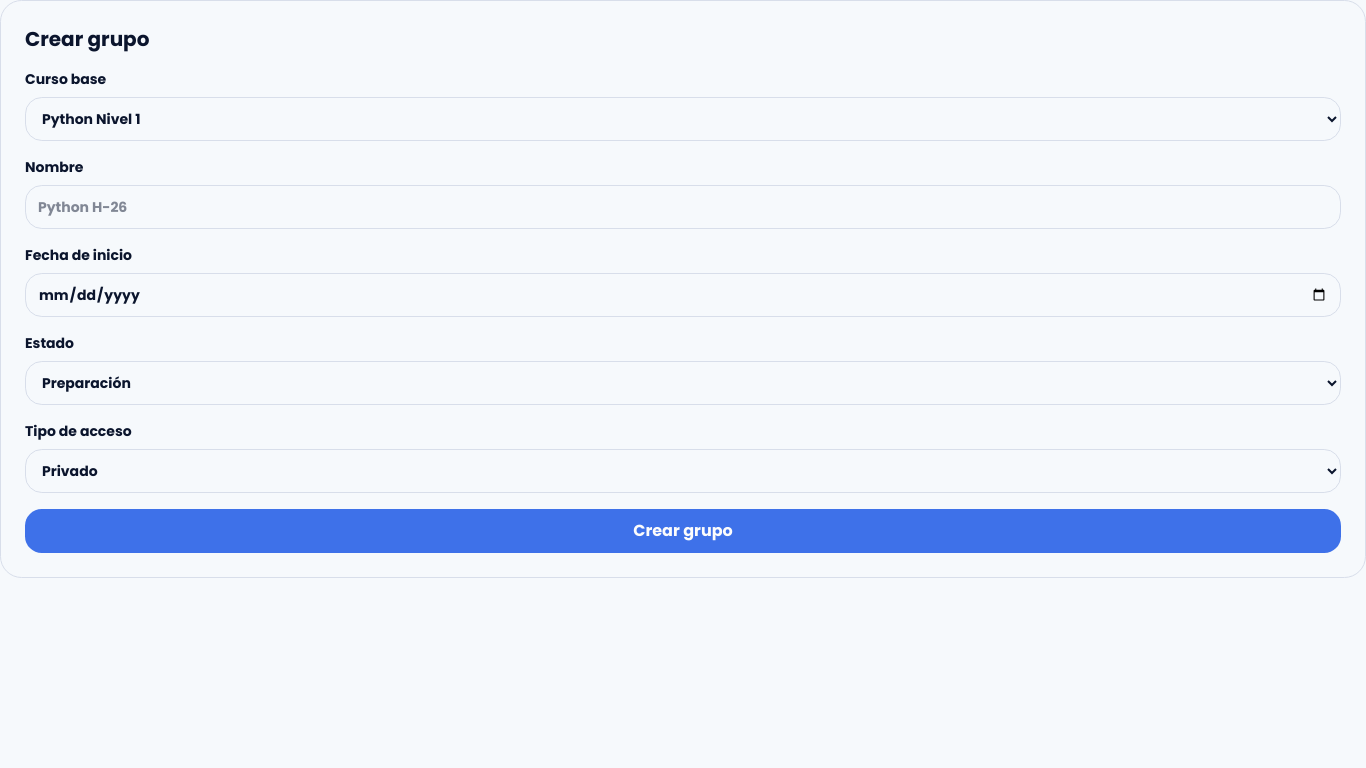
Test case: oculta y omite el curso base para un grupo público
Select "Público" in the dropdown labelled "Tipo de acceso" at (683, 471), box [25, 449, 1341, 493]
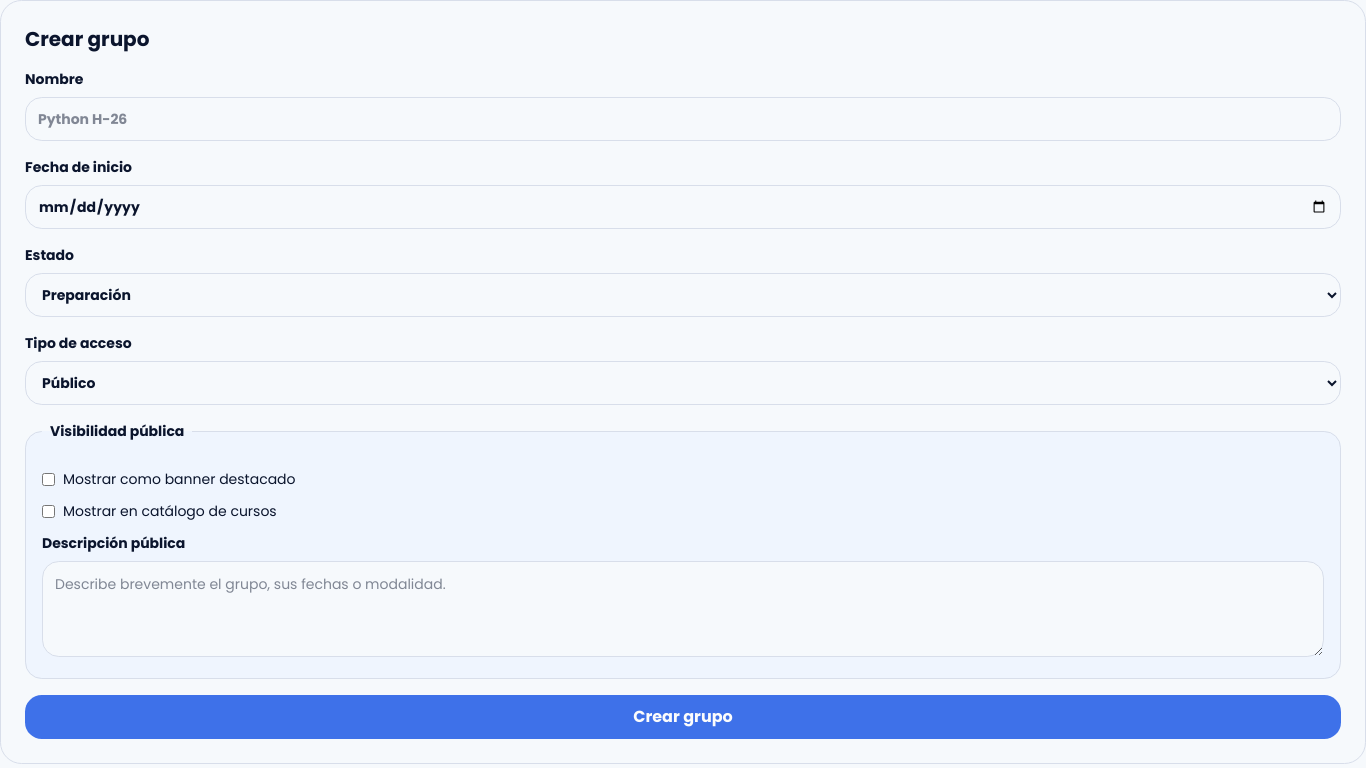
Now the label labelled "Curso base" is gone
Now the text "Mostrar como banner destacado" is shown, box [42, 469, 296, 489]
Now the text "Mostrar en catálogo de cursos" is shown, box [42, 501, 277, 521]
